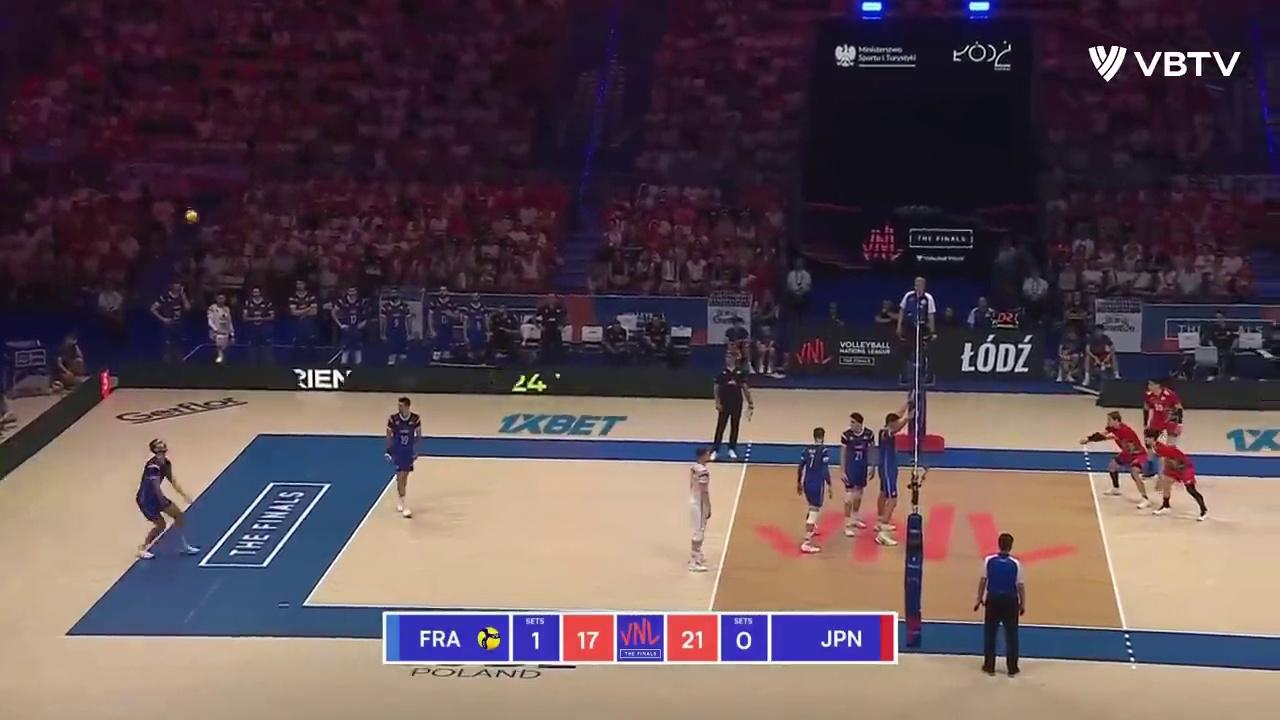ball: (185, 210, 198, 223)
